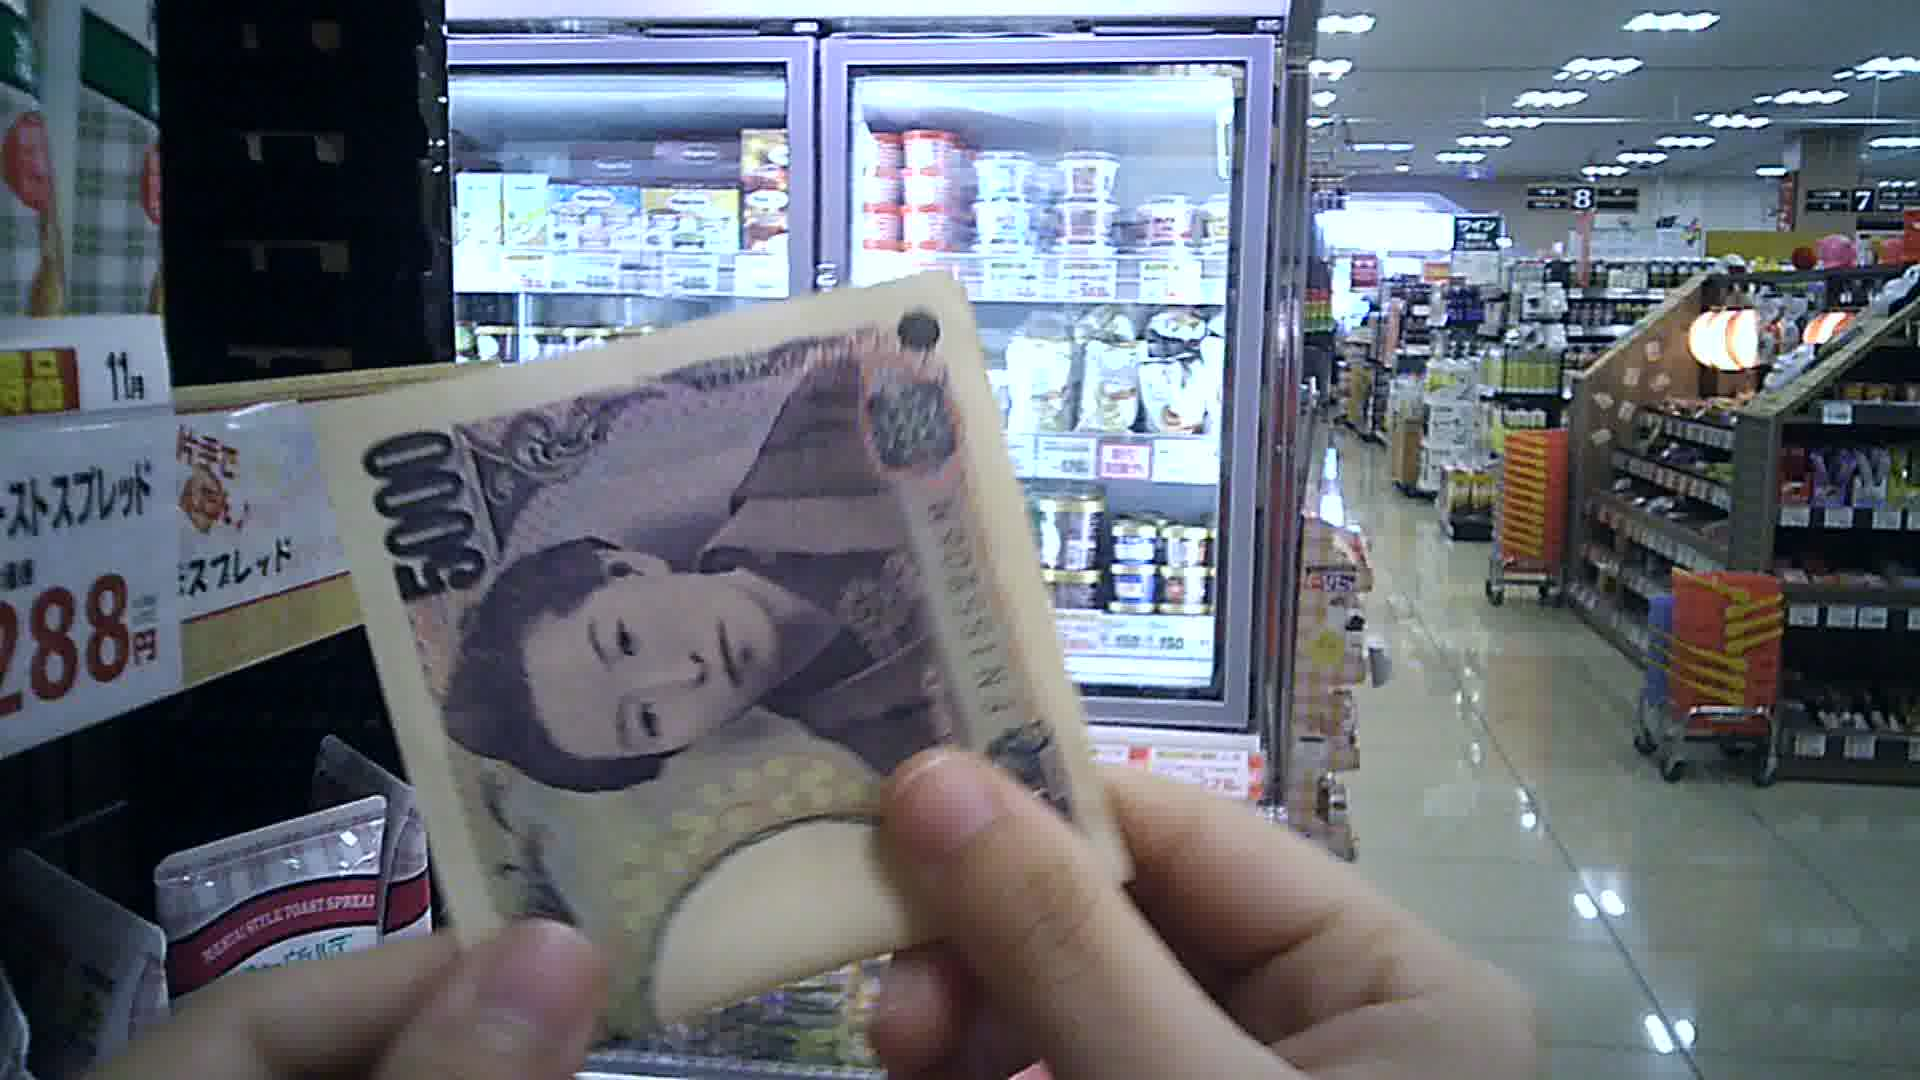5,000 Yen: (299, 270, 1124, 1019)
